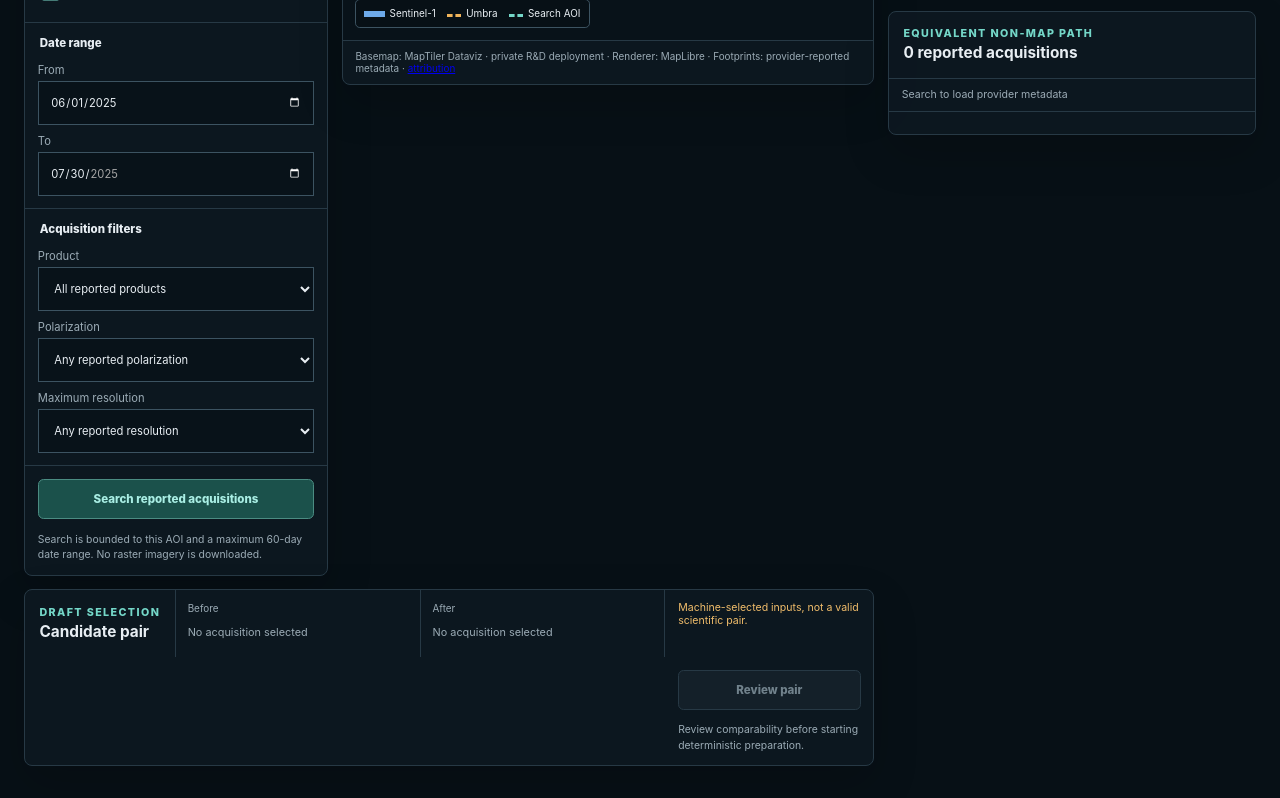
Test: Explore › preserves a successful provider when another provider fails
This screenshot has width=1280, height=798.
(page scrolled)
Click the button "Search reported acquisitions". click: coordinates (176, 499)
box: [38, 479, 314, 519]
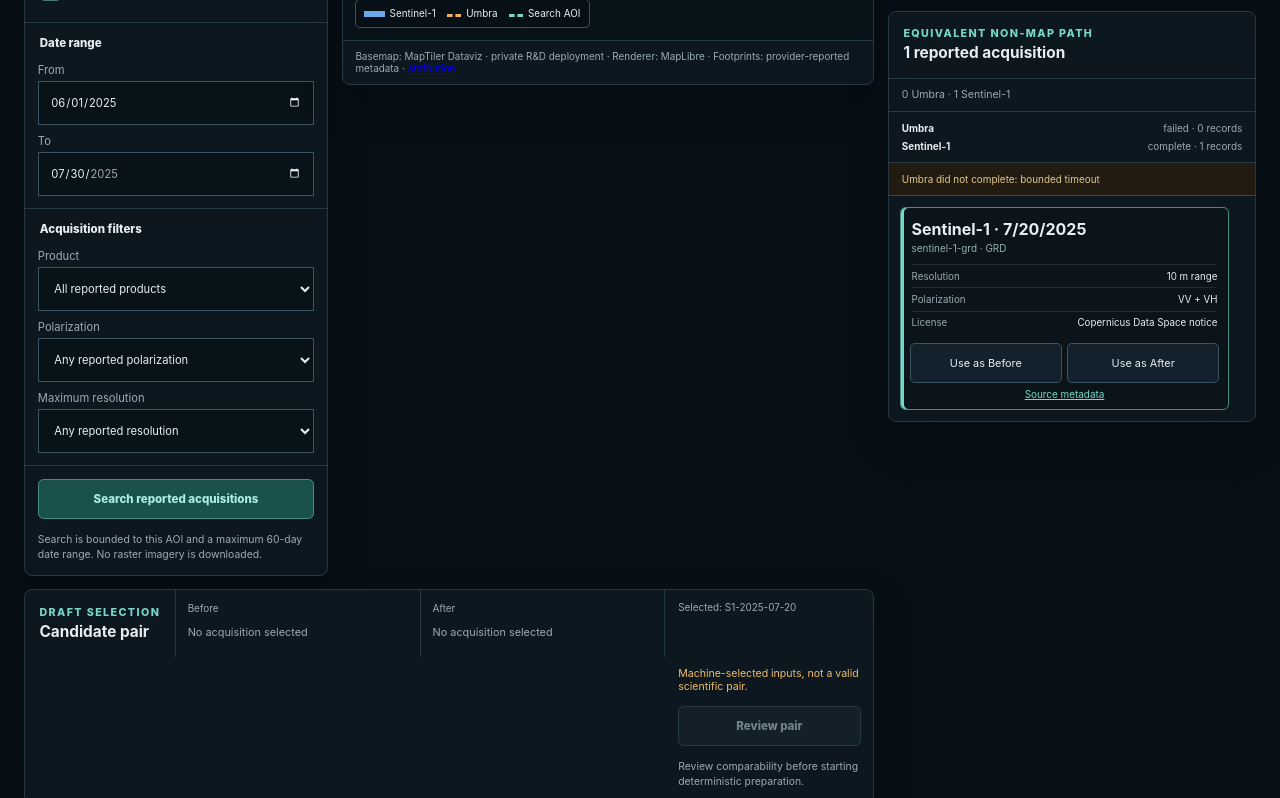
Now the heading "1 reported acquisition" is shown, box [903, 44, 1093, 63]
Now the text "failed · 0 records" is shown, box [1163, 123, 1242, 135]
Now the text "Umbra did not complete: bounded timeout" is shown, box [889, 164, 1255, 196]
